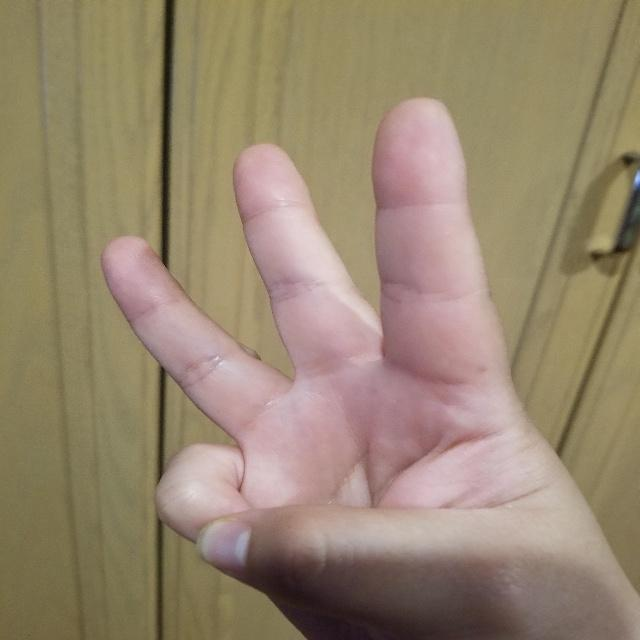W: (92, 91, 640, 639)
